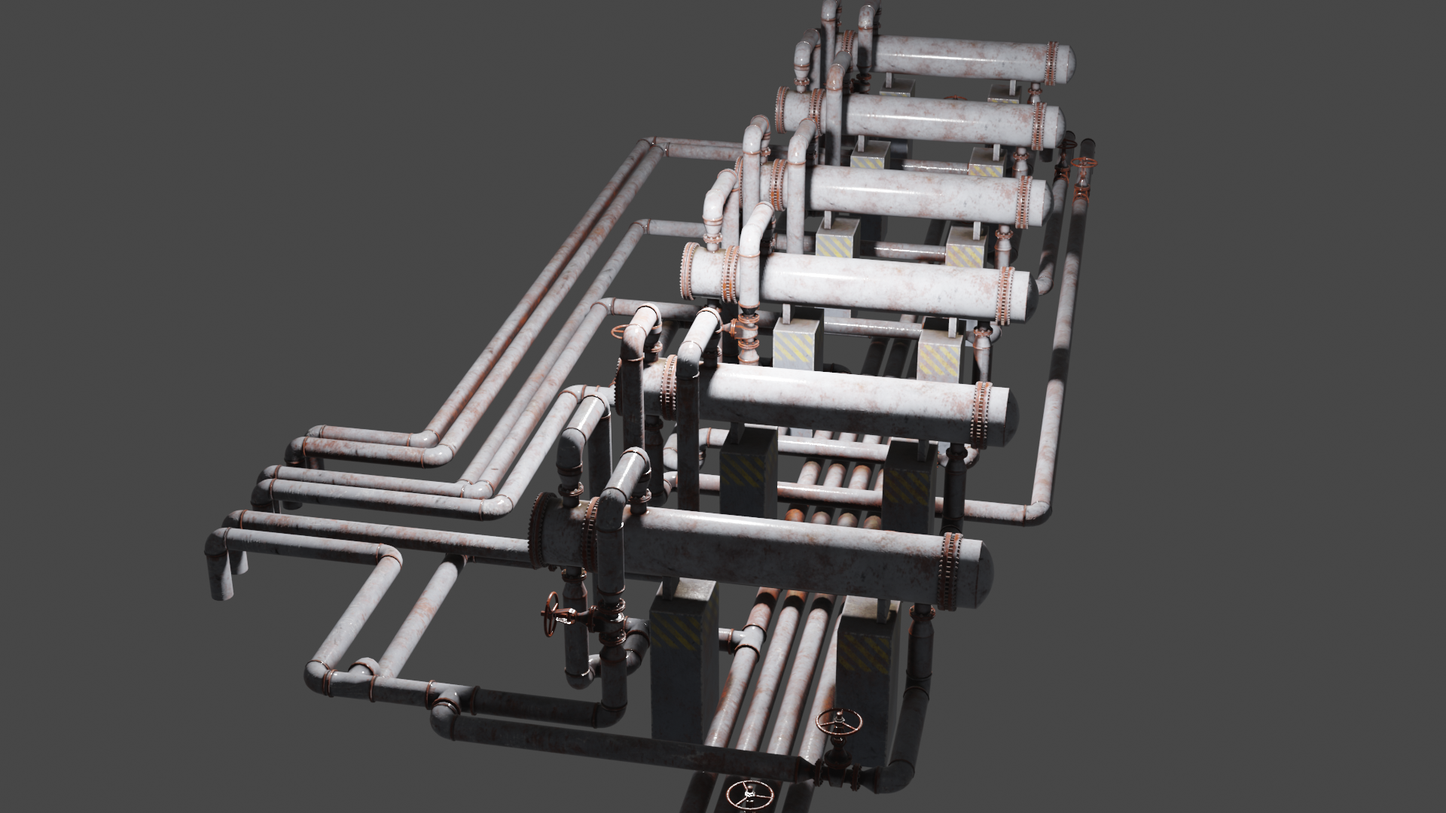HE_1: (808, 27, 1077, 82)
HE_2: (773, 83, 1065, 149)
HE_3: (738, 155, 1054, 224)
HE_4: (677, 238, 1043, 319)
HE_5: (612, 352, 1020, 449)
HE_6: (524, 490, 995, 610)
